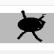not correct: (16, 10, 47, 43)
